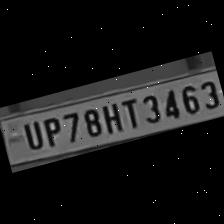3: (135, 89, 163, 126), (194, 76, 222, 112)
4: (156, 85, 184, 122)
6: (174, 80, 202, 118)
7: (56, 108, 84, 145)
8: (77, 104, 105, 140)
H: (96, 98, 126, 135)
P: (36, 113, 66, 150)
T: (116, 94, 142, 131)
U: (17, 117, 45, 152)
